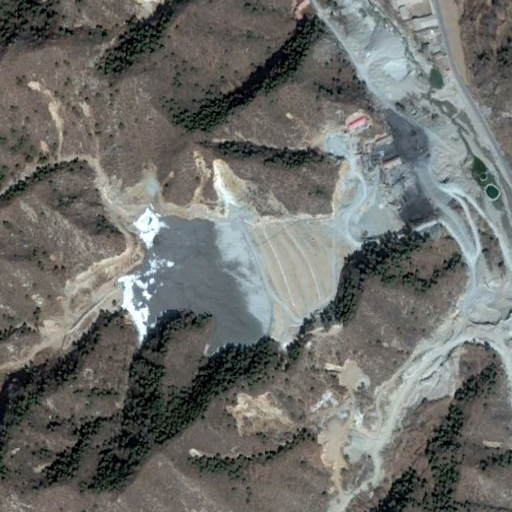tp: (124, 208, 354, 357)
